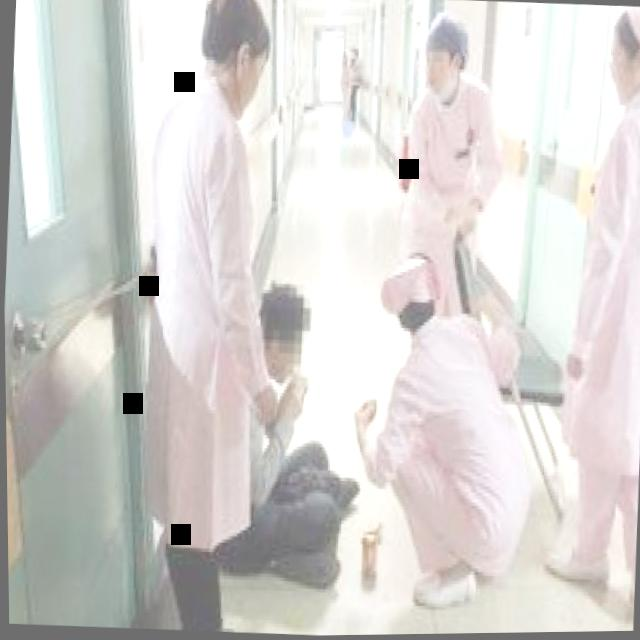Fall-Detected: (209, 271, 371, 603)
